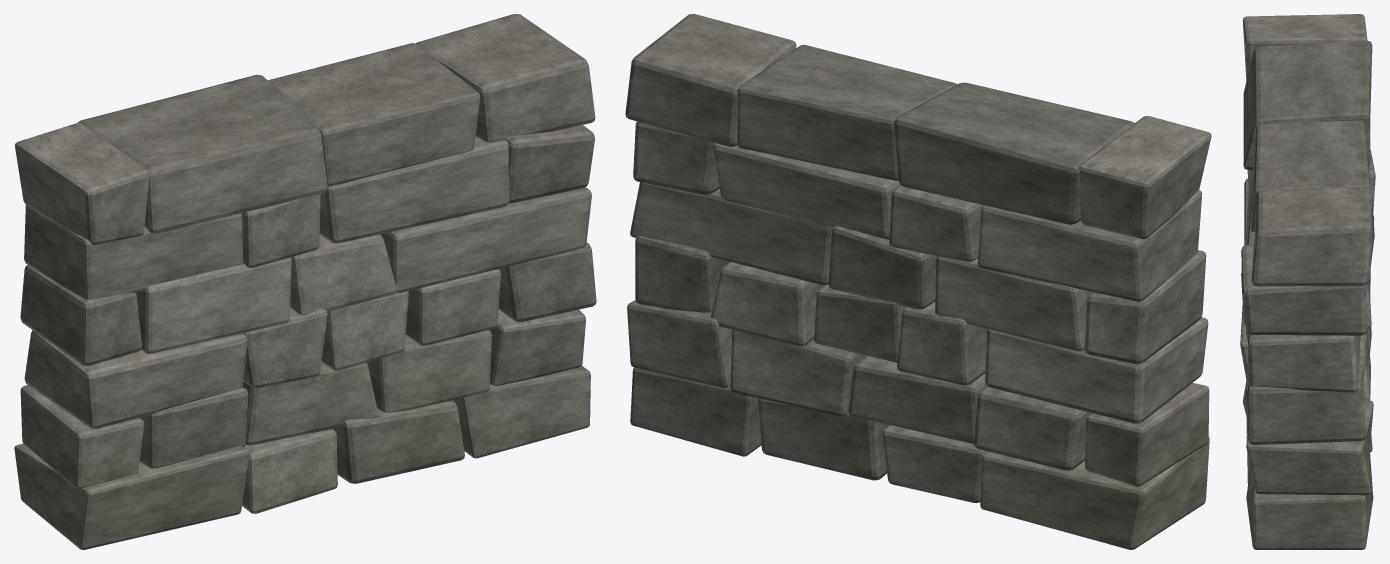
Rendered from 01_Wall_Intact_300.glb.
3 views of the same model, side by side, from view 1: azimuth 30°, elevation 25°; view 2: azimuth 150°, elevation 25°; view 3: azimuth 270°, elevation 25° (orthographic). The views are drawn at different scales.
Parts seen in each view (by area): view 1: 01_Wall_Intact_300; view 2: 01_Wall_Intact_300; view 3: 01_Wall_Intact_300.
Boxes of the visible parts, bbox=[...] form: 01_Wall_Intact_300: bbox=[14, 14, 596, 549]; 01_Wall_Intact_300: bbox=[625, 14, 1211, 549]; 01_Wall_Intact_300: bbox=[1240, 14, 1375, 549].
Size of the model in its own units: 3.05 by 2.08 by 0.7869.
1 material, 1 textured.
